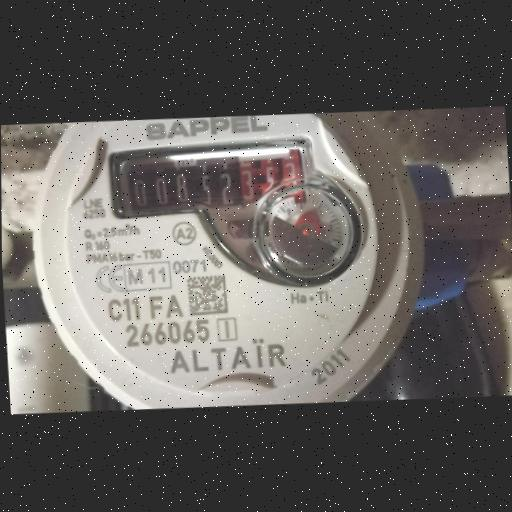0: (127, 171, 155, 211), (149, 169, 174, 208)
2: (212, 161, 241, 207)
3: (238, 159, 261, 204), (276, 146, 303, 183)
5: (193, 163, 218, 208), (255, 157, 281, 198)
8: (170, 168, 197, 206)
border_water_meter_number: (118, 141, 313, 220)
